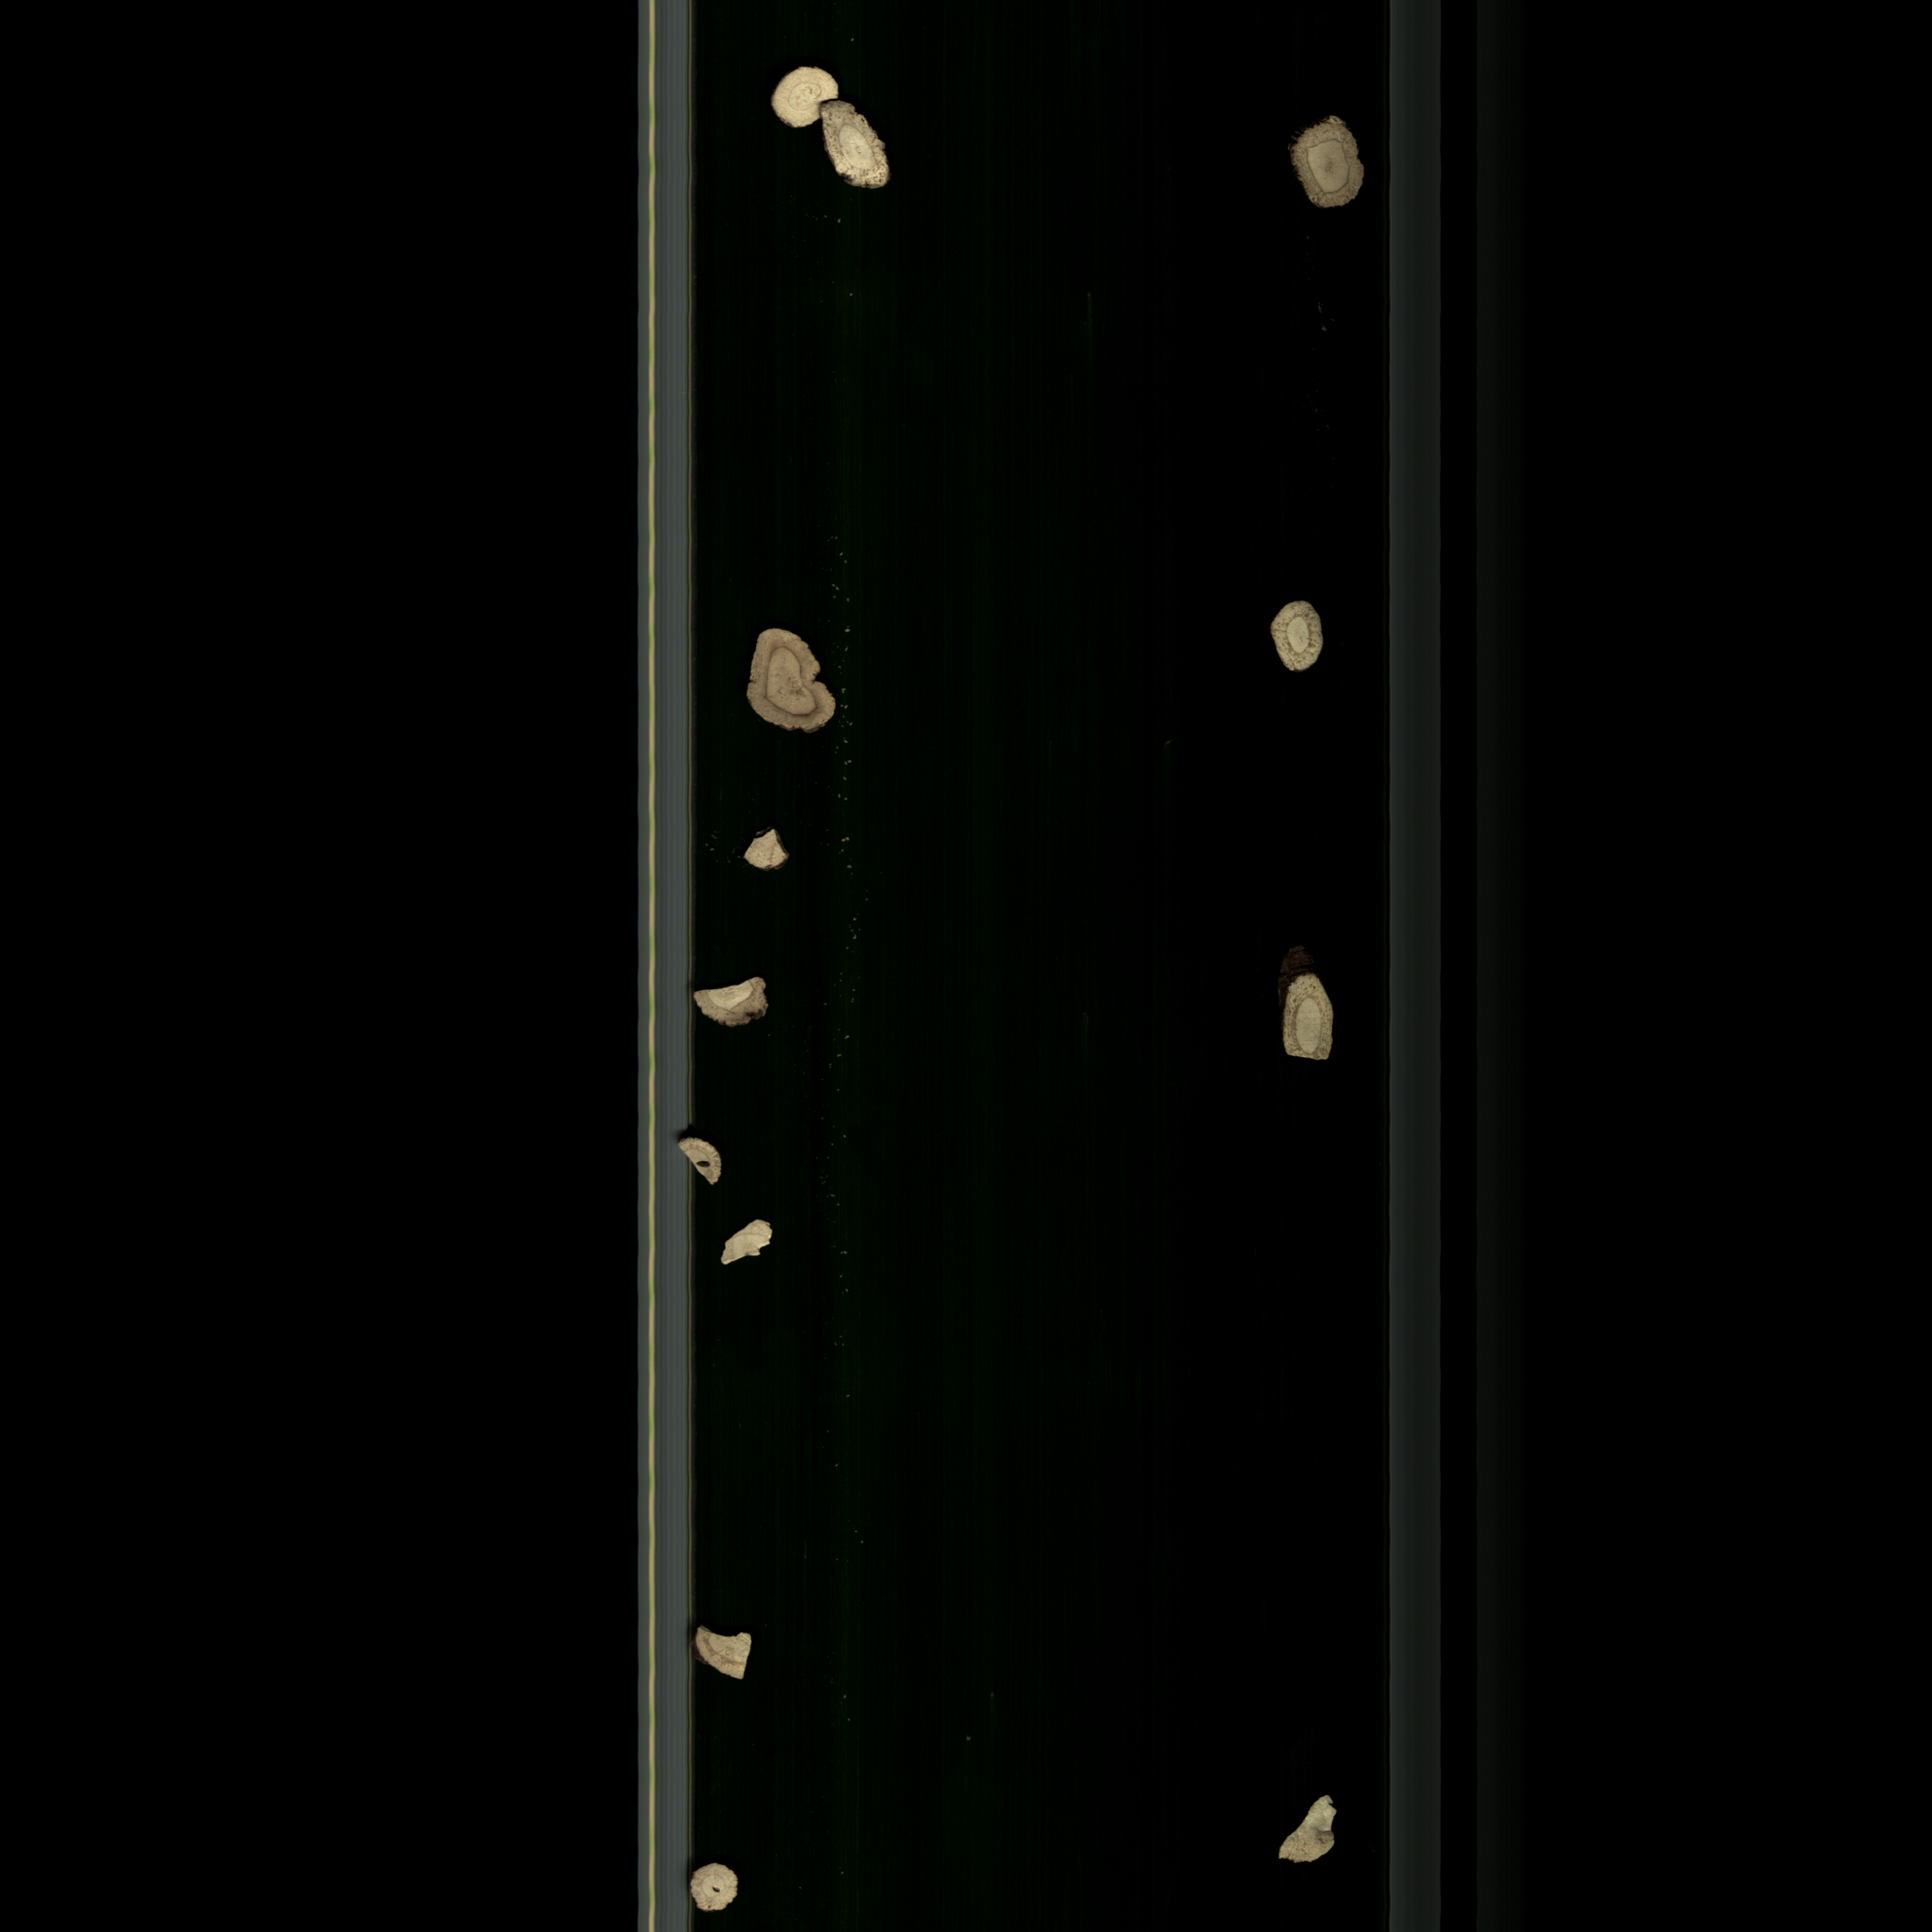dreg: (1270, 1792, 1346, 1875), (688, 1617, 764, 1688), (732, 821, 812, 885), (720, 1212, 773, 1276)
hole: (674, 1134, 734, 1192), (685, 1858, 745, 1916)
moldy: (734, 625, 839, 745), (1290, 113, 1373, 225), (814, 97, 897, 200), (1281, 970, 1345, 1076), (1265, 594, 1332, 676), (695, 975, 786, 1033)
